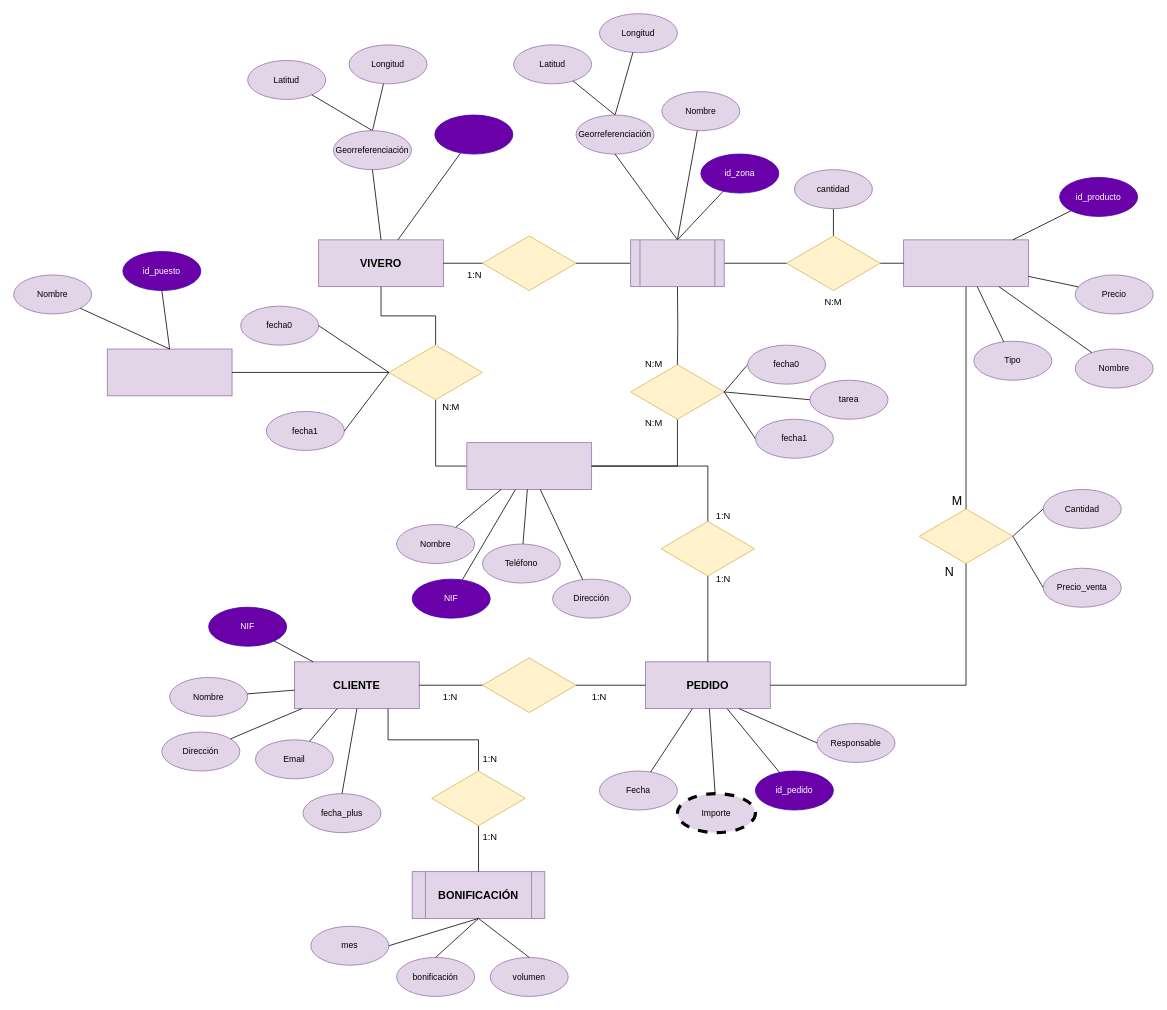
The diagram is 1167 pixels wide and 1010 high, and some of its shapes have lost their labels. The box of each missing label's shape, as (x1, y1, x2, y2) in pixels:
asignado: (786, 235, 880, 291)
destinado en: (388, 344, 482, 400)
EMPLEADO: (466, 442, 592, 489)
gestiona: (660, 521, 755, 576)
id_viviero: (434, 114, 513, 154)
incluye: (918, 508, 1013, 564)
PRODUCTO: (903, 239, 1028, 287)
PUESTO: (106, 348, 232, 396)
realiza: (482, 657, 576, 713)
recibe: (431, 770, 525, 826)
tiene: (482, 235, 576, 291)
trabaja en: (630, 364, 724, 419)
ZONA: (630, 239, 724, 287)
